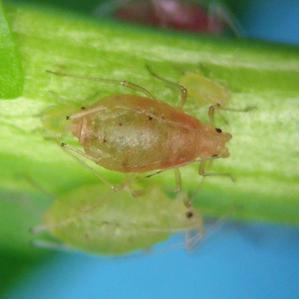Green peach aphid: (36, 63, 248, 198), (20, 179, 234, 279), (163, 51, 247, 116)
